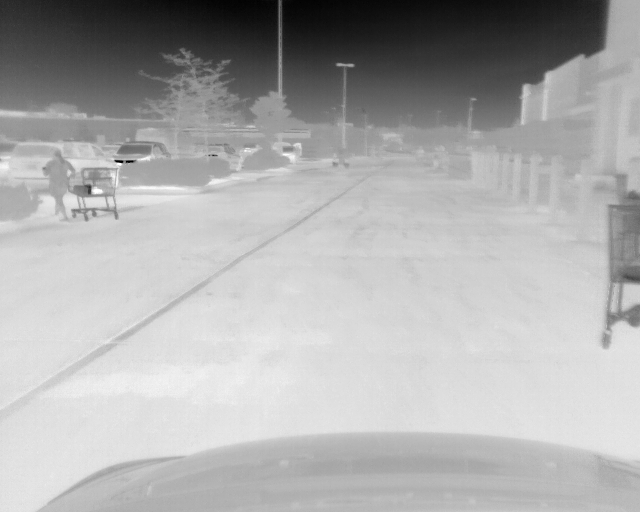car: (9, 138, 118, 190), (114, 138, 173, 174), (198, 144, 241, 170), (282, 144, 302, 165), (240, 140, 270, 153)
people: (41, 150, 76, 221)
